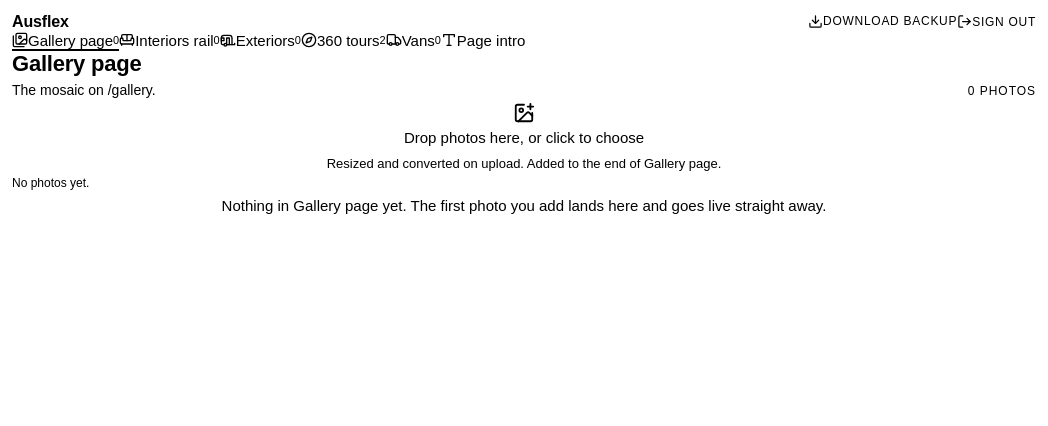
Test: AdminPage › rejects an off-allowlist embed URL before sending it
The width and height of the screenshot is (1048, 426).
Click the tab "360 tours 2" at (343, 41), box [301,32,386,51]
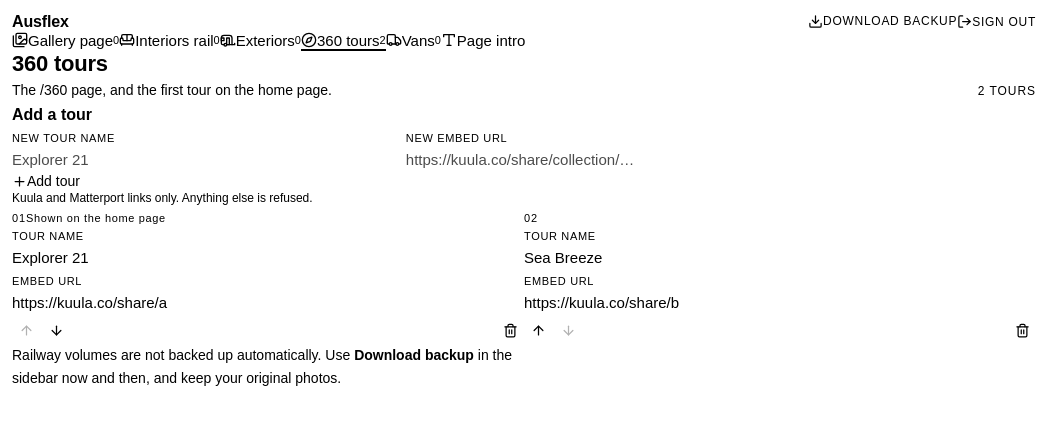
Type "Bad tour" into the field labelled "New tour name" at (209, 159), box [12,151,406,168]
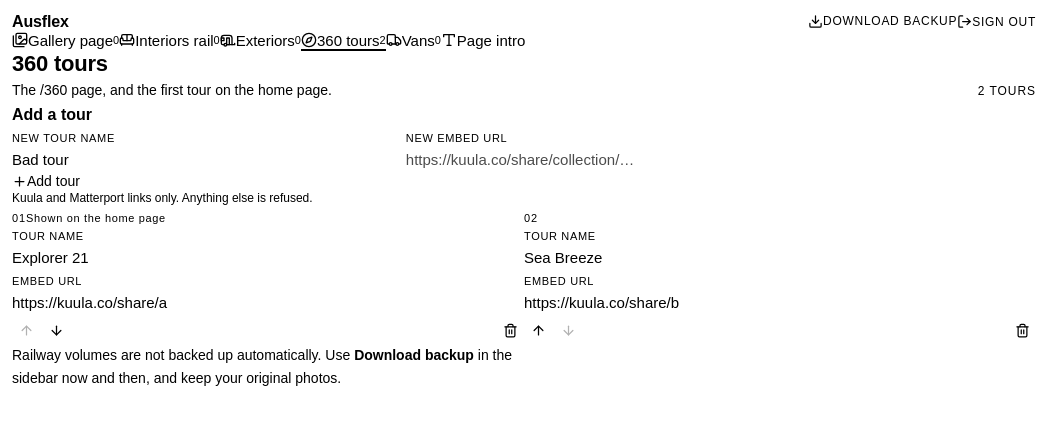
Type "https://evil.example.com/x" into the field labelled "New embed URL" at (721, 159), box [406,151,1036,168]
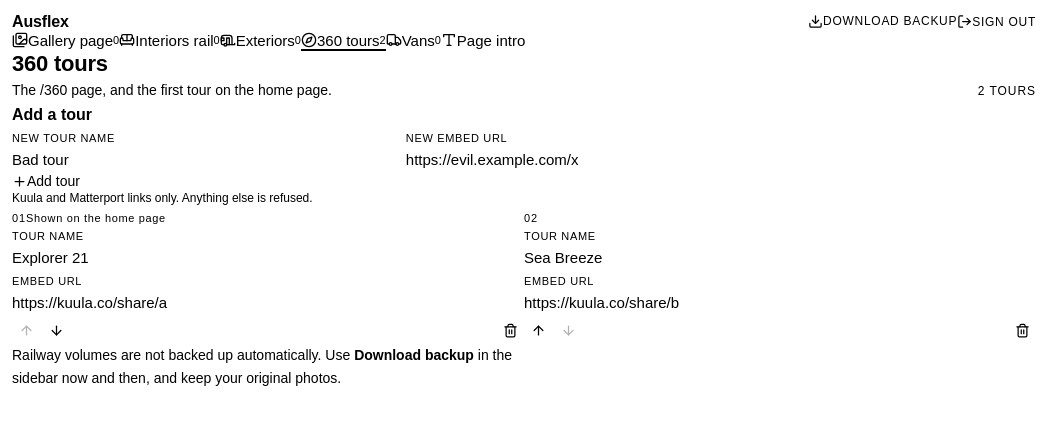
Click the button "Add tour" at (46, 181), box [12,173,80,189]
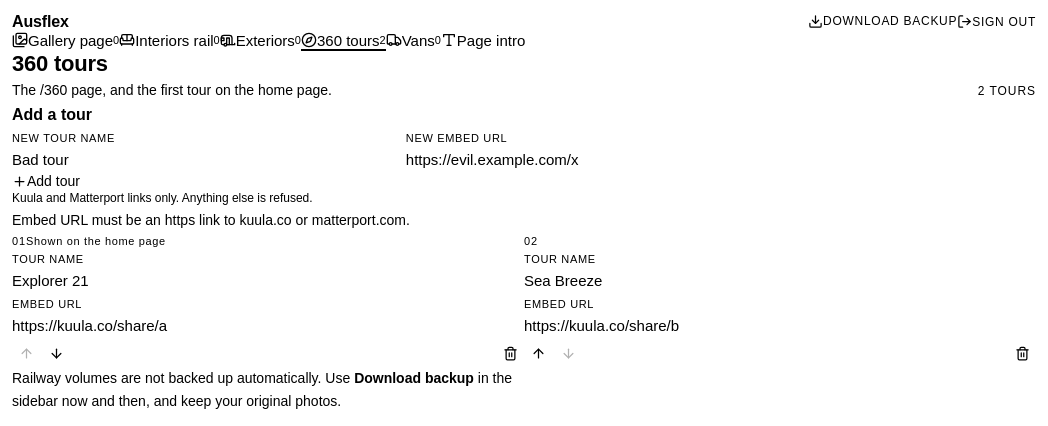
Result: the message shows "kuula.co or matterport.com" at [12,212,410,228]
